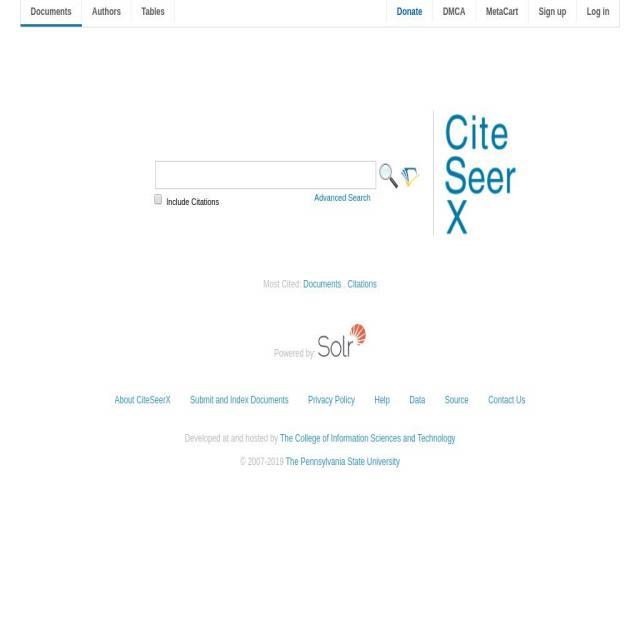login-option: (582, 0, 616, 23)
navigation-links: (22, 5, 622, 43), (101, 387, 544, 423)
search: (148, 155, 426, 225)
sign-up-option: (539, 4, 569, 28)
